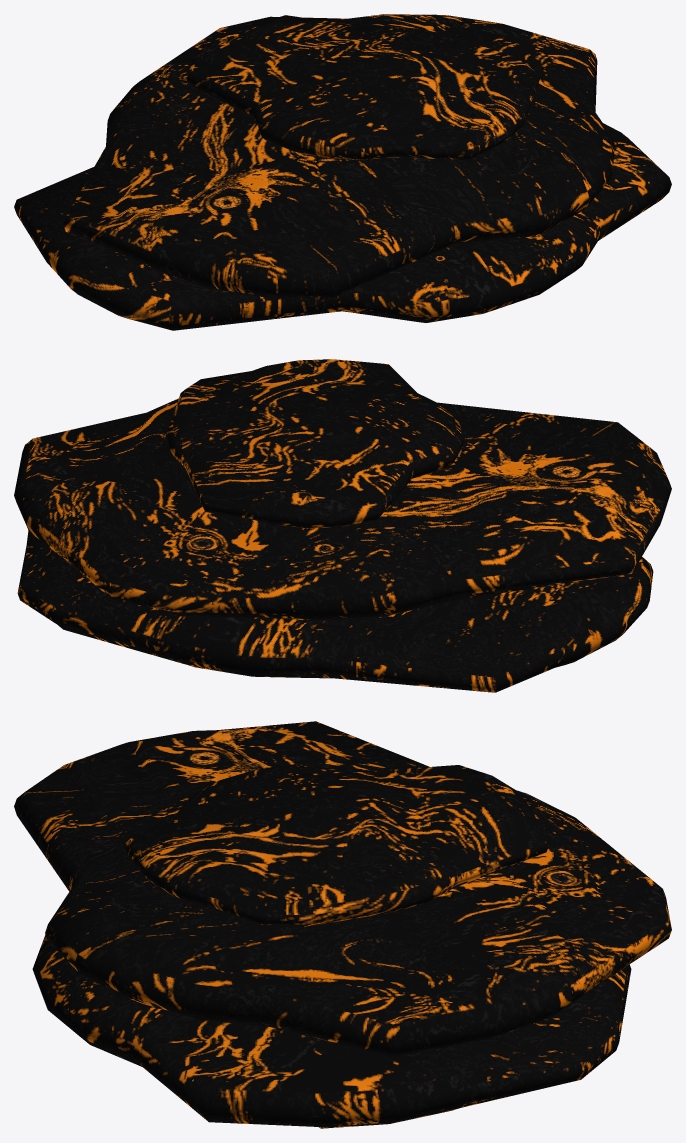
Rendered from Rock formation.fbx.
3 views of the same model, one above another, from view 1: azimuth 30°, elevation 25°; view 2: azimuth 150°, elevation 25°; view 3: azimuth 270°, elevation 25° (orthographic). The views are drawn at different scales.
Parts seen in each view (by area): view 1: Rock_Formed; view 2: Rock_Formed; view 3: Rock_Formed.
Part boxes in pixels (box(x1,y1,x2,y2)): Rock_Formed: box(14, 14, 671, 330); Rock_Formed: box(14, 359, 671, 692); Rock_Formed: box(14, 721, 671, 1128).
Size of the model in its own units: 1205 by 380 by 1054.
Materials: 1 (1 with a texture image).
